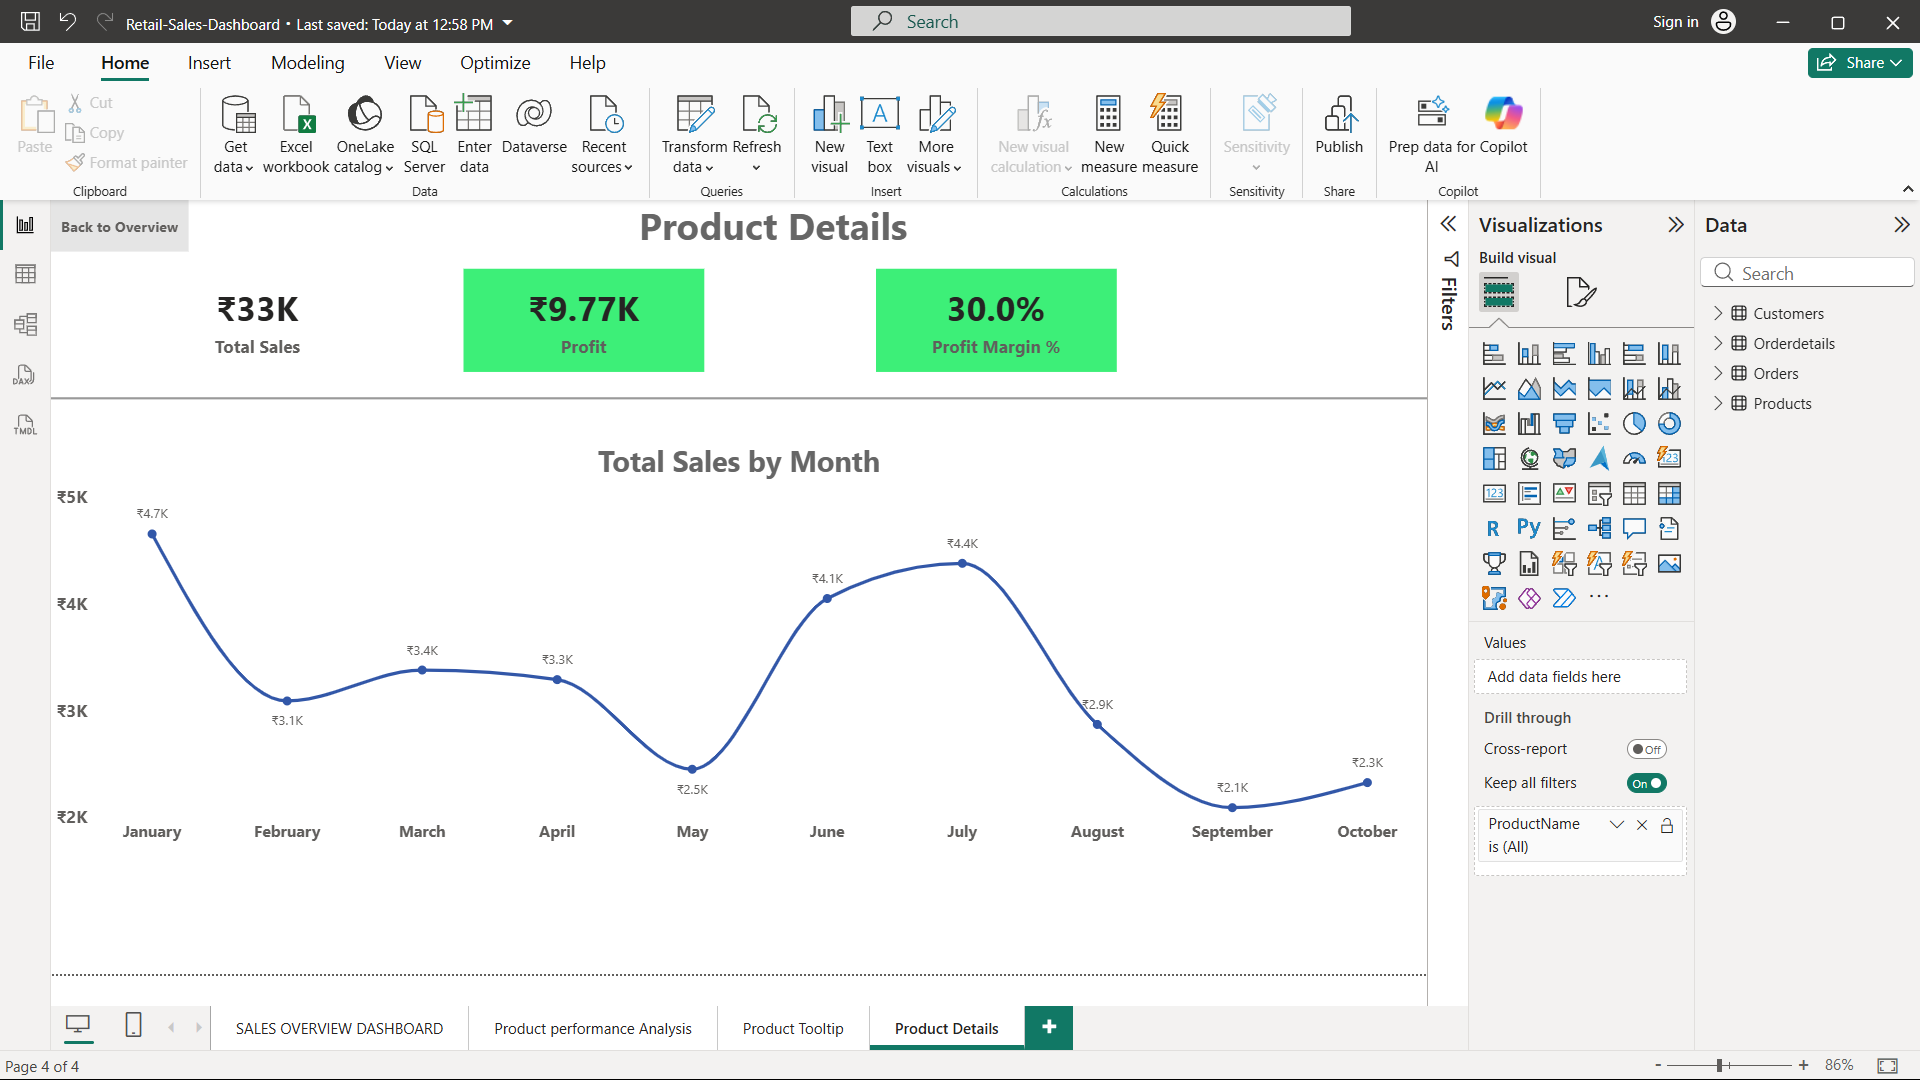

The page's visual inventory and layout, read from the dashboard file:
{"tool":"powerbi","page":{"name":"Product Details","canvas":[1280,720],"ordinal":3},"visuals":[{"type":"lineChart","fields":{"Category":["Orders.OrderDate.Variation.Date Hierarchy.Month"],"Y":["Customers.Total Sales"]},"box":[0,64,1280,384],"z":0},{"type":"card","fields":{"Values":["Customers.Total Sales"]},"box":[80,64,224,96],"z":1000},{"type":"card","fields":{"Values":["Customers.Profit"]},"box":[384,64,224,96],"z":2000},{"type":"card","fields":{"Values":["Customers.Profit Margin %"]},"box":[768,64,224,96],"z":3000},{"type":"textbox","title":"Product Details","box":[192,0,960,48],"z":4000},{"type":"actionButton","box":[0,0,128,48],"z":5000},{"type":"shape","box":[0,160,1280,48],"z":5001}]}

Visuals, with their boxes on the page's 1280x720 design canvas (x1, y1, x2, y2). These are canvas units, not pixel positions in the 1920x1080 screenshot, which may show the page scaled, cropped or inside an application window:
lineChart - Orders.OrderDate.Variation.Date Hierarchy.Month x Customers.Total Sales: <region>0, 64, 1280, 448</region>
card - Customers.Total Sales: <region>80, 64, 304, 160</region>
card - Customers.Profit: <region>384, 64, 608, 160</region>
card - Customers.Profit Margin %: <region>768, 64, 992, 160</region>
"Product Details" textbox: <region>192, 0, 1152, 48</region>
actionButton: <region>0, 0, 128, 48</region>
shape: <region>0, 160, 1280, 208</region>
